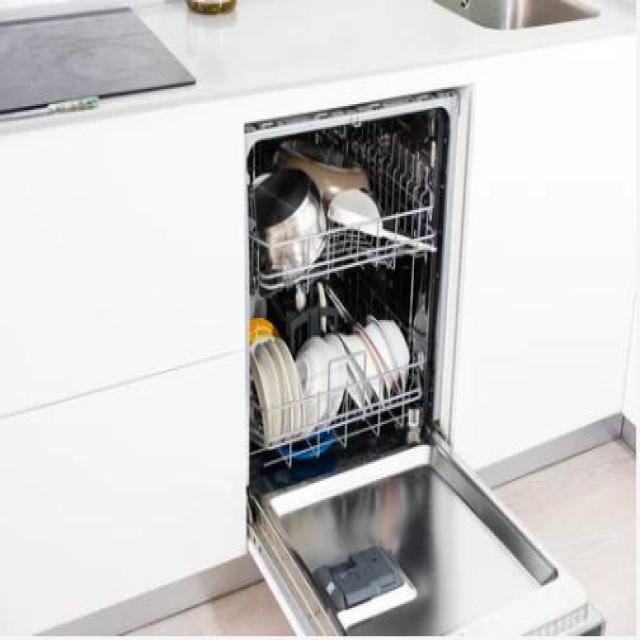dishwasher: (235, 80, 603, 638)
